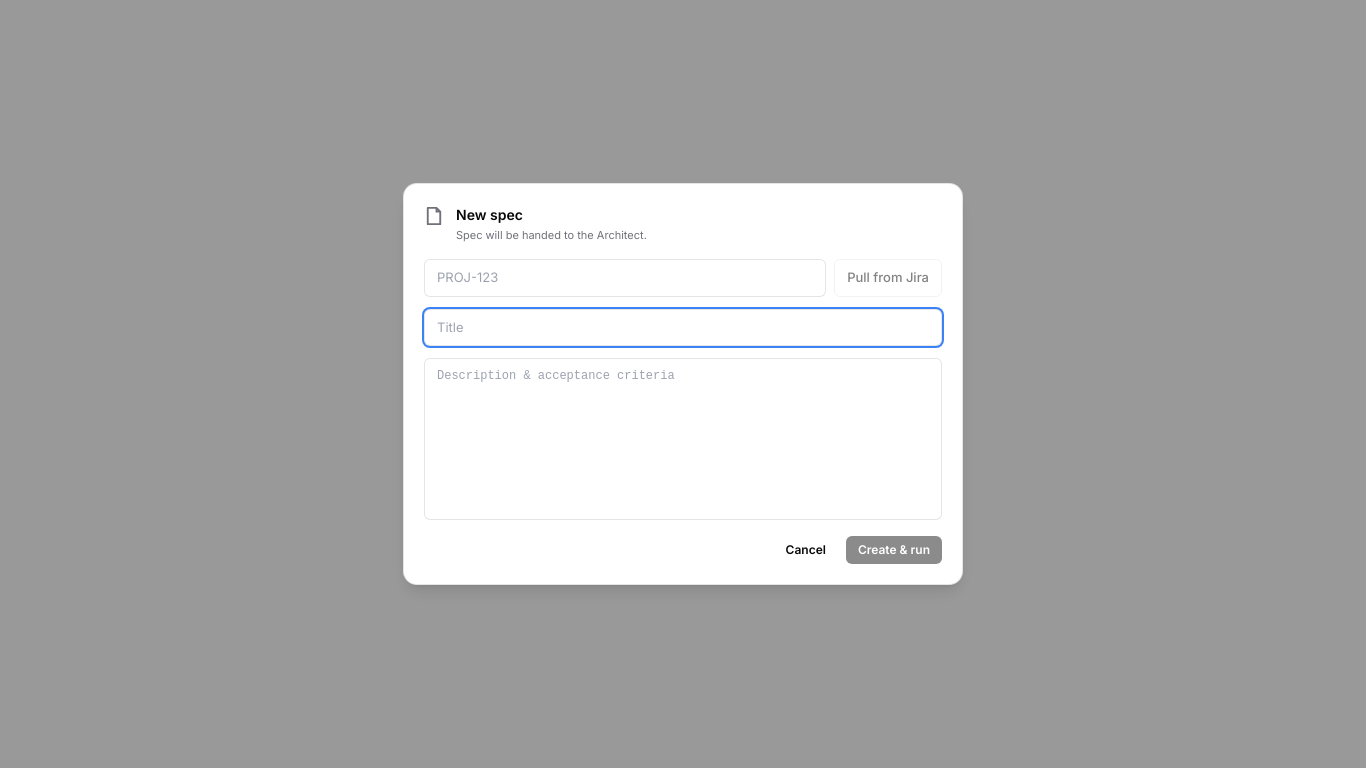
Test: SpecDialog › jira-pull row › does not clear existing title/body fields on error
Type "Existing title" into the field with test id "spec-dialog-title-input". click: (683, 328)
box: [424, 309, 942, 346]
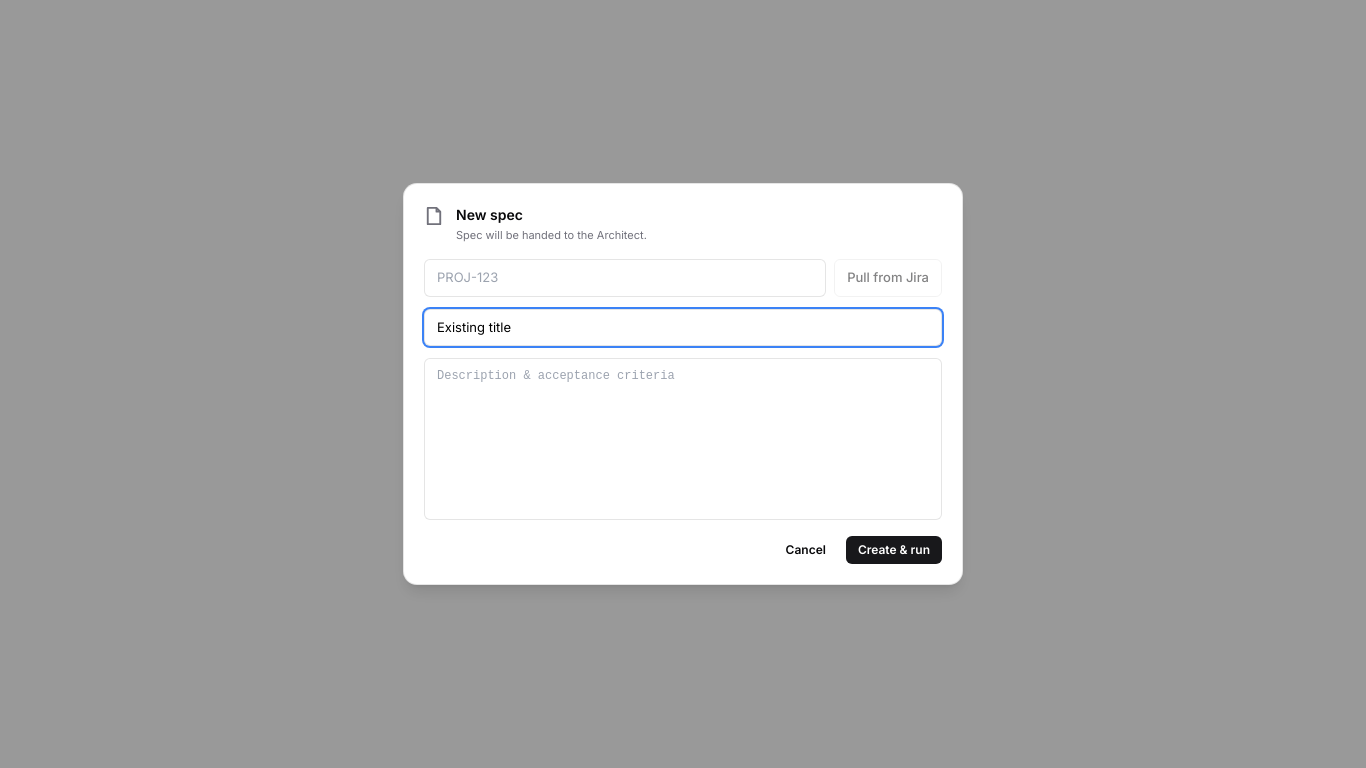
Type "Existing body" into the text box with test id "spec-dialog-body-textarea". click: (683, 439)
box: [424, 358, 942, 520]
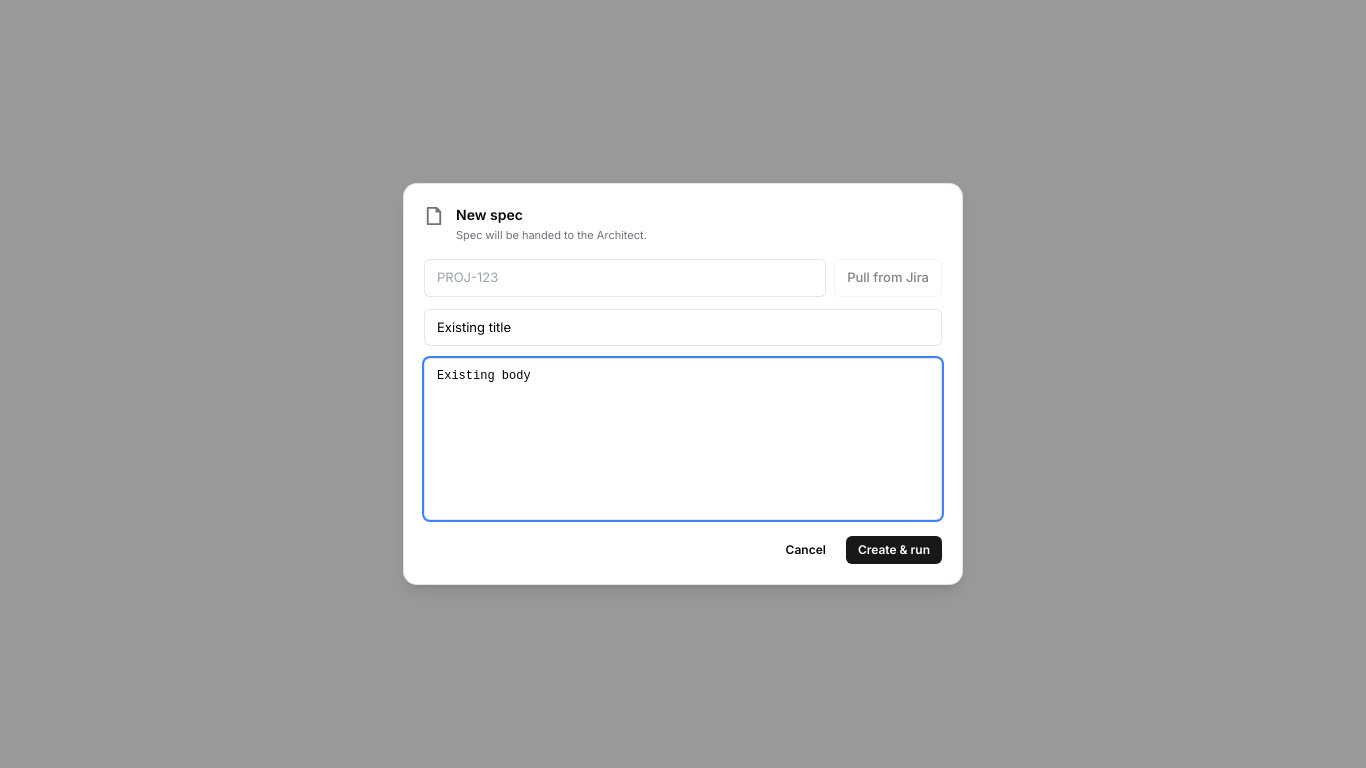
Type "PROJ-1" into the field with test id "spec-dialog-jira-key-input". click: (625, 278)
box: [424, 259, 826, 297]
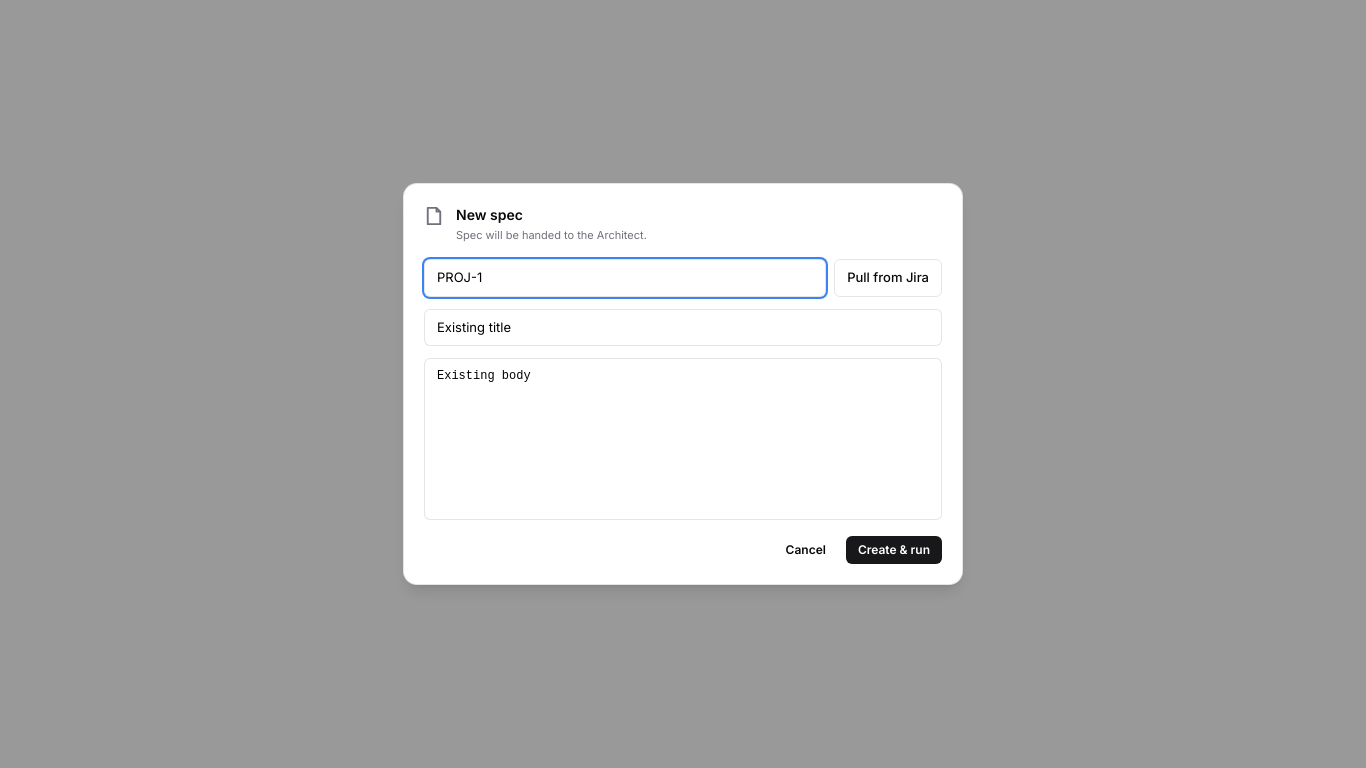
Click the button with test id "spec-dialog-jira-pull-button". click: (888, 278)
box: [834, 259, 942, 297]
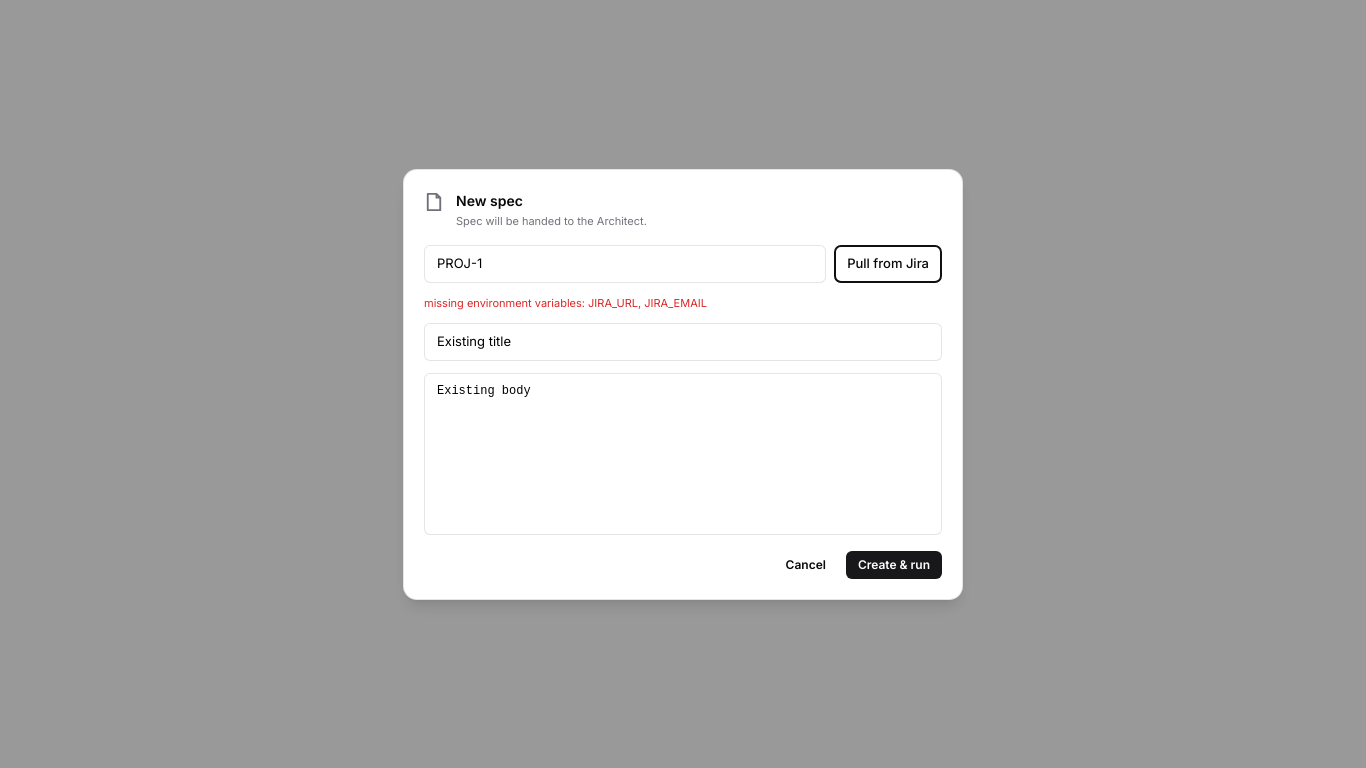
Check: the text "missing environment variables: JIRA_URL, JIRA_EMAIL" is shown, box [424, 296, 707, 310]
